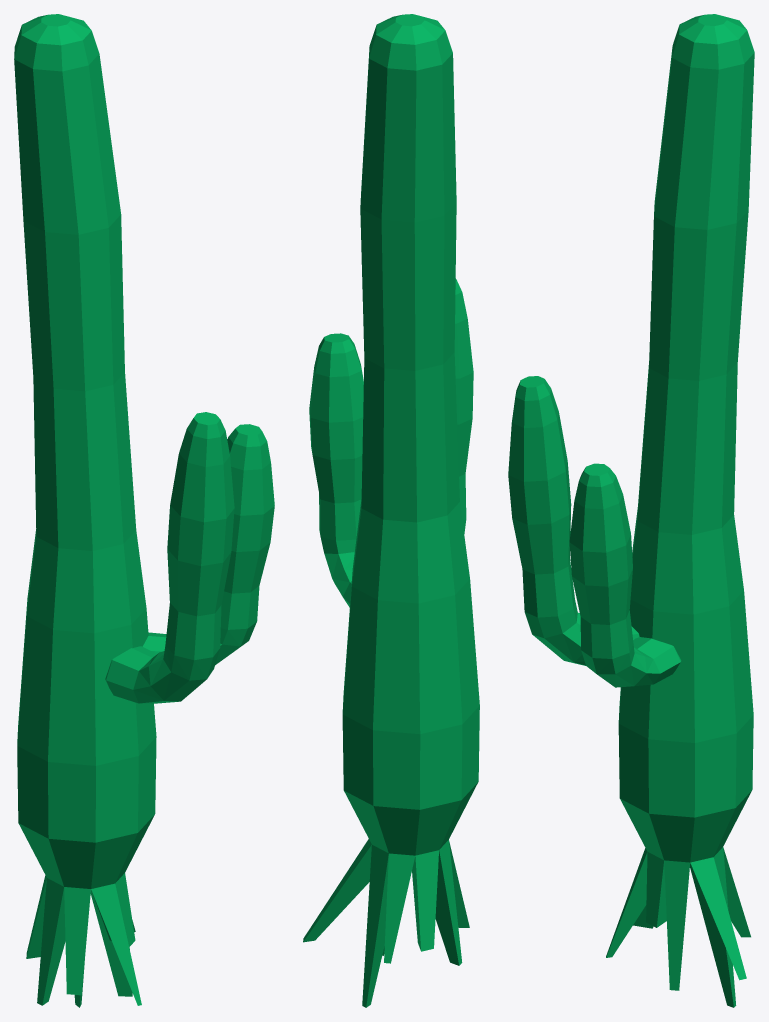
File: SeguaroCactusLarge1_LOD0.fbx
3 views of the same model, side by side, from view 1: azimuth 30°, elevation 25°; view 2: azimuth 150°, elevation 25°; view 3: azimuth 270°, elevation 25° (orthographic). The views are drawn at different scales.
Parts seen in each view (by area): view 1: SeguaroCactusLarge1_LOD0; view 2: SeguaroCactusLarge1_LOD0; view 3: SeguaroCactusLarge1_LOD0.
Boxes of the visible parts, x1,y1,x2,y2 form: SeguaroCactusLarge1_LOD0: (14,14,274,1007); SeguaroCactusLarge1_LOD0: (303,14,479,1007); SeguaroCactusLarge1_LOD0: (508,14,754,1007).
Size of the model in its own units: 117 by 509 by 108.
